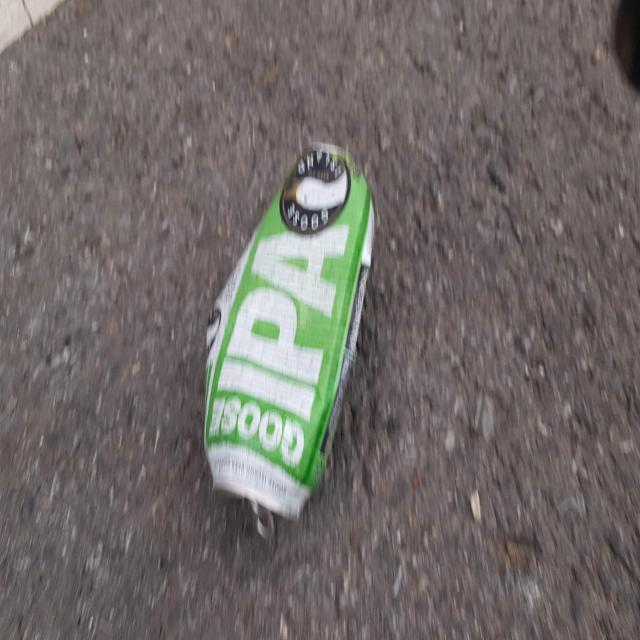can: (204, 143, 374, 537)
